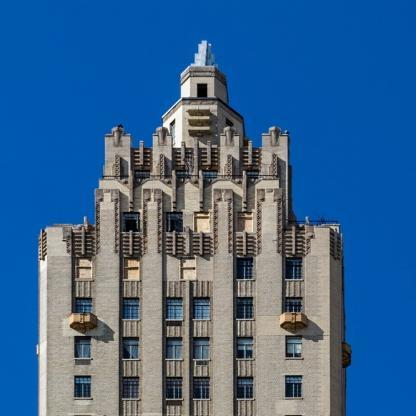Building Outline: (36, 40, 351, 416)
Deco: (257, 188, 282, 255), (95, 189, 119, 255), (142, 188, 162, 255), (213, 188, 233, 255)
Facade: (39, 224, 343, 416)
Floor: (47, 243, 331, 287), (47, 290, 331, 328), (100, 186, 288, 241), (47, 370, 331, 406), (47, 331, 331, 367), (105, 151, 287, 183), (163, 108, 243, 148), (47, 408, 331, 416)
Floor Slab: (47, 328, 331, 331), (47, 287, 331, 290), (47, 367, 331, 370), (47, 405, 331, 408), (47, 241, 331, 244), (100, 183, 288, 186), (105, 148, 287, 151), (182, 106, 217, 109)
Top Floor: (190, 66, 215, 106)
Window: (285, 257, 303, 279), (236, 257, 254, 279), (236, 337, 254, 358), (75, 376, 92, 398), (286, 376, 303, 398), (179, 257, 196, 279), (75, 297, 92, 319), (286, 297, 303, 319), (123, 297, 140, 319), (74, 336, 91, 358), (286, 336, 303, 358), (166, 377, 183, 399), (193, 297, 210, 319), (193, 337, 210, 359), (166, 337, 183, 359), (237, 377, 254, 398), (193, 377, 210, 398), (123, 337, 140, 358), (237, 297, 253, 319), (237, 212, 254, 232), (123, 212, 140, 232), (166, 212, 183, 232), (194, 212, 211, 232), (123, 377, 139, 398), (77, 257, 92, 279), (124, 257, 139, 279), (167, 297, 182, 319), (197, 83, 207, 97), (135, 172, 150, 179), (244, 172, 259, 179), (203, 172, 218, 179), (176, 172, 189, 179)
Window Hole: (135, 170, 150, 179), (244, 170, 259, 179), (203, 170, 218, 179), (176, 170, 189, 179)
